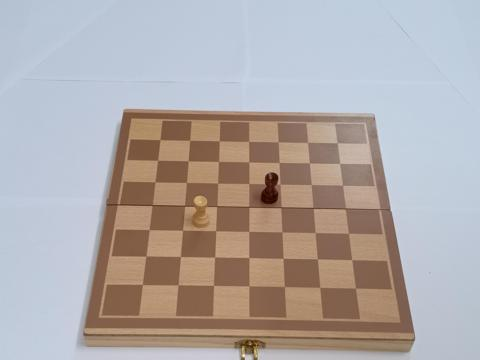xcorner: (276, 203, 286, 213), (334, 159, 344, 169), (156, 137, 166, 146), (148, 202, 158, 211), (145, 226, 155, 235), (142, 252, 151, 262), (180, 202, 190, 211), (178, 227, 188, 236), (176, 253, 186, 262), (212, 203, 222, 212), (211, 227, 221, 236), (210, 253, 220, 262), (209, 281, 219, 290), (244, 203, 254, 212), (244, 228, 254, 237), (275, 180, 284, 190), (304, 159, 314, 168), (308, 204, 318, 213), (311, 228, 320, 238), (315, 283, 325, 292), (337, 181, 347, 190), (340, 204, 350, 213), (154, 157, 163, 166), (151, 179, 160, 188), (139, 280, 148, 289), (186, 137, 195, 146), (184, 158, 193, 167), (182, 179, 191, 188), (174, 281, 183, 290), (215, 138, 224, 147), (214, 158, 223, 167), (213, 180, 222, 189), (244, 138, 253, 147), (244, 158, 253, 167), (244, 180, 253, 189), (245, 254, 254, 263), (245, 282, 254, 291), (273, 138, 282, 147), (274, 159, 283, 168), (278, 228, 287, 237), (279, 254, 288, 263), (280, 282, 289, 291), (303, 139, 312, 148), (306, 181, 315, 190), (313, 255, 322, 264), (332, 139, 341, 148), (344, 229, 353, 238), (347, 255, 356, 264), (351, 283, 360, 292)
